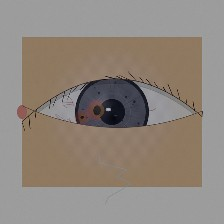foreign_body_visible: (72, 90, 122, 130)
